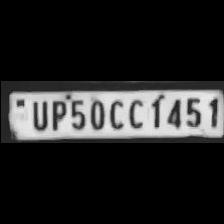0: (86, 97, 104, 130)
1: (204, 96, 222, 128), (146, 95, 162, 129)
4: (163, 95, 183, 129)
5: (181, 96, 203, 128), (66, 97, 86, 130)
C: (124, 96, 144, 130), (105, 96, 124, 130)
P: (46, 98, 66, 132)
U: (28, 98, 48, 132)
